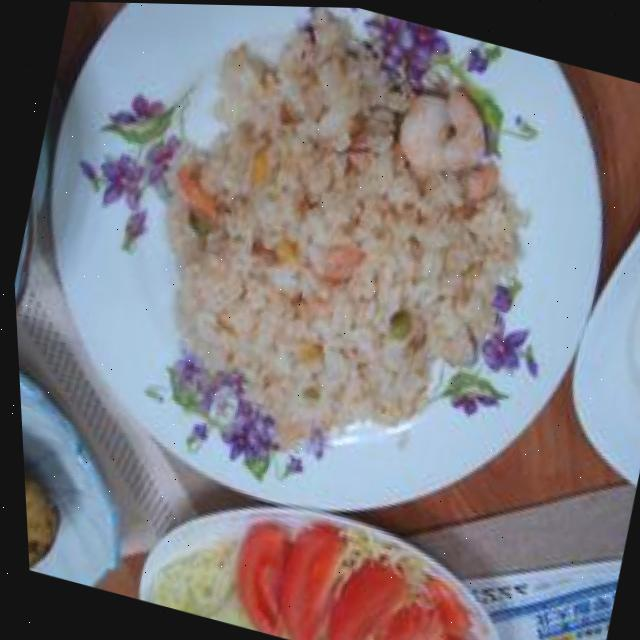米饭主食: (77, 1, 568, 516)
